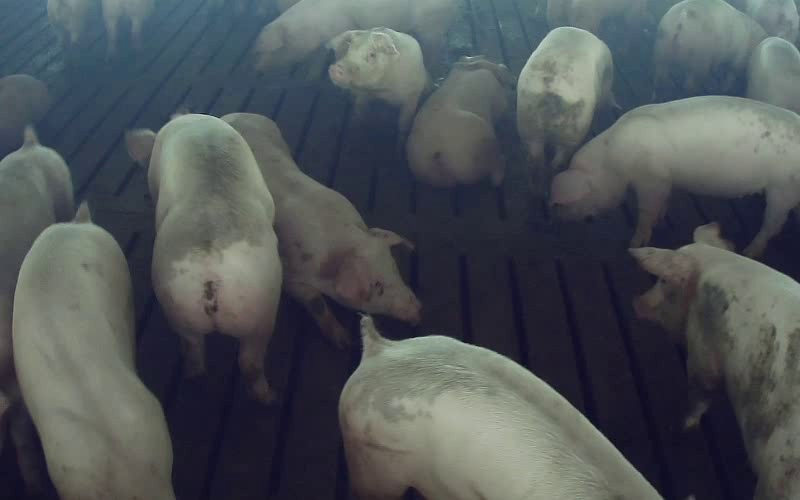pig: (339, 317, 659, 499), (13, 204, 173, 499), (631, 224, 799, 499), (224, 113, 420, 346), (126, 114, 281, 401), (551, 96, 799, 256), (0, 126, 73, 487), (255, 0, 457, 77), (517, 27, 614, 169), (407, 57, 513, 186), (329, 27, 429, 142), (654, 0, 766, 88)
